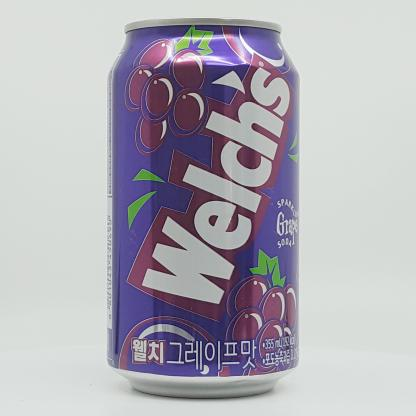alumunium_can: (102, 14, 309, 406)
